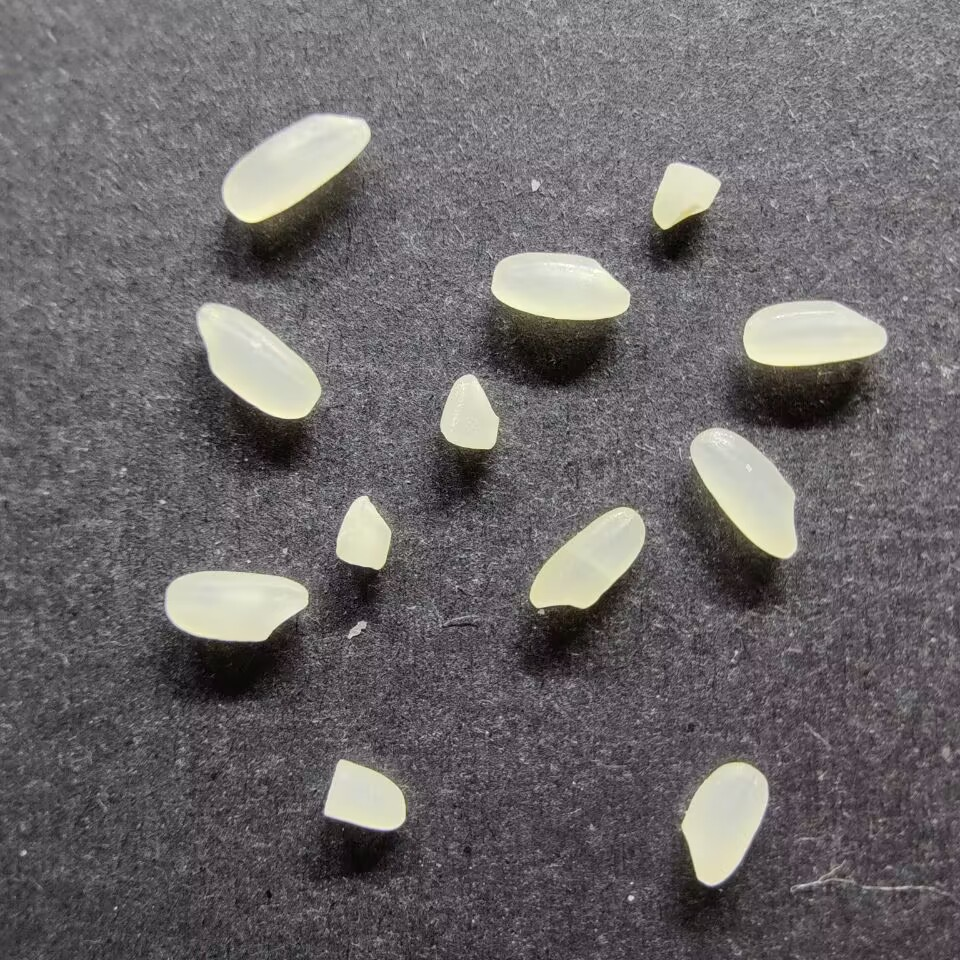broken: (322, 758, 406, 832), (651, 161, 721, 230), (439, 373, 499, 450), (335, 494, 391, 570)
rice: (221, 113, 371, 223), (194, 302, 323, 420), (689, 427, 800, 559), (528, 505, 646, 609), (681, 762, 769, 887), (164, 570, 309, 642), (490, 251, 630, 322), (742, 299, 887, 367)
